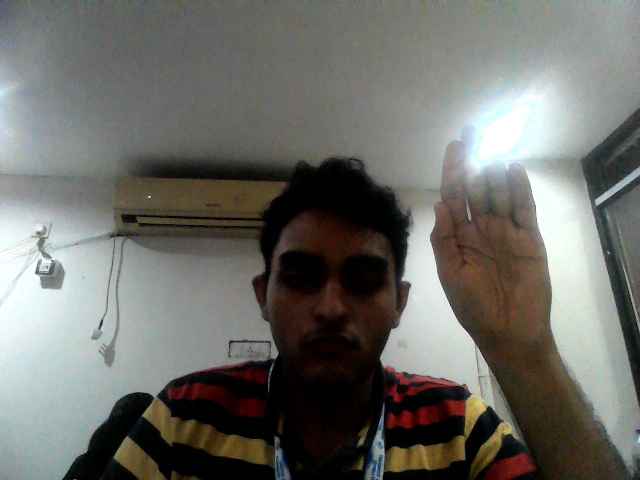palm: (427, 118, 560, 359)
